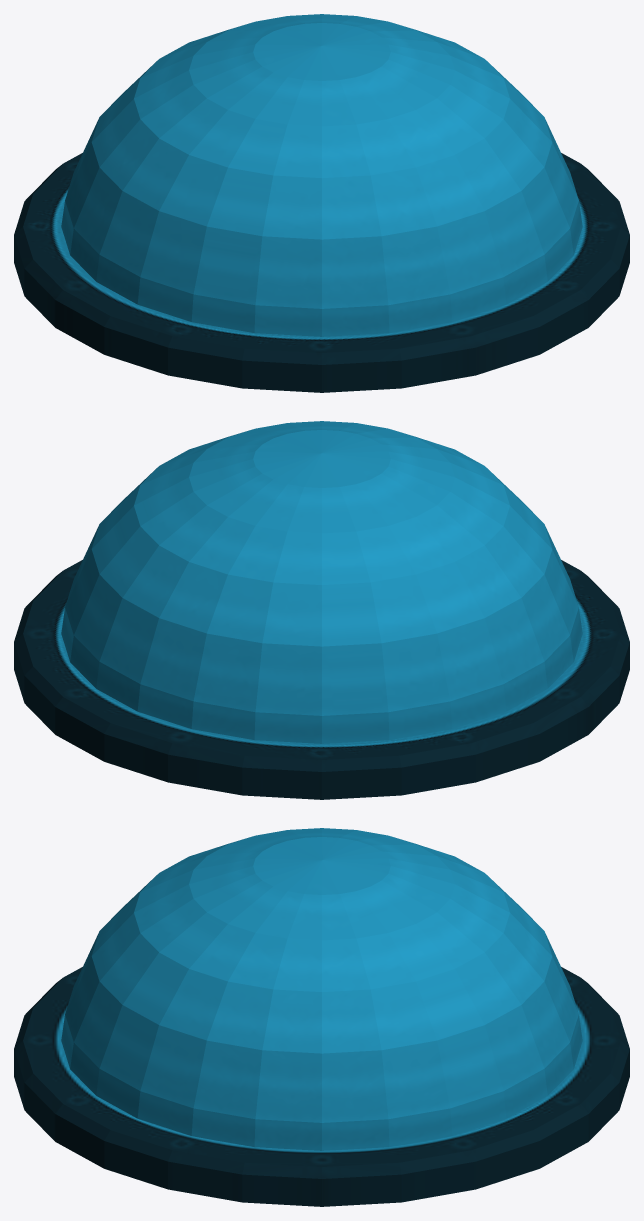
The model's file is equipment_0012_balanceball.glb.
3 renders of one model, top to bottom at view 1: azimuth 30°, elevation 25°; view 2: azimuth 150°, elevation 25°; view 3: azimuth 270°, elevation 25°, orthographic.
Visible parts, largest first — view 1: balanceball, base; view 2: balanceball, base; view 3: balanceball, base.
Boxes of the visible parts, x1,y1,x2,y2 form: balanceball: (61,14,582,336); base: (14,153,629,392); balanceball: (61,421,582,743); base: (14,560,629,799); balanceball: (61,828,582,1150); base: (14,967,629,1206).
Size of the model in its own units: 62 by 24.07 by 62.
1 material, 1 textured.
